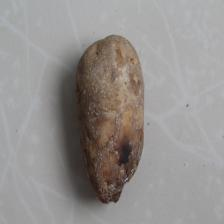Diseased-fungal potato: (73, 31, 147, 204)
